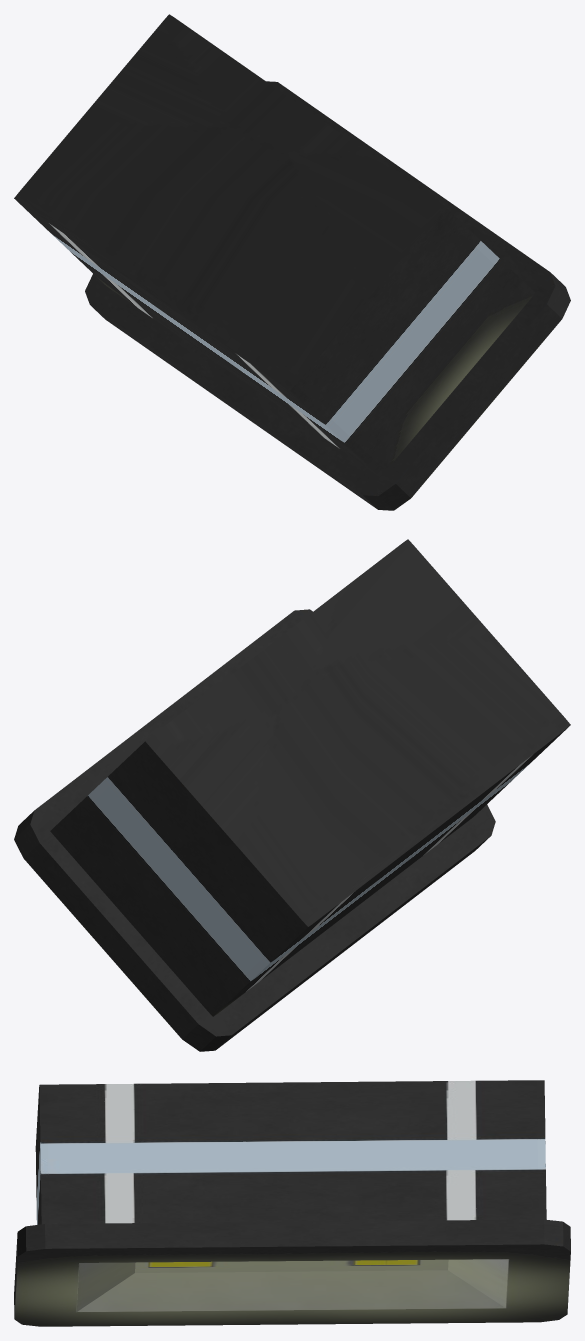
Rendered from light.obj.
3 views of the same model, one above another, from view 1: azimuth 30°, elevation 25°; view 2: azimuth 150°, elevation 25°; view 3: azimuth 270°, elevation 25° (orthographic). The views are drawn at different scales.
Parts seen in each view (by area): view 1: Light; view 2: Light; view 3: Light.
Boxes of the visible parts, x1,y1,x2,y2 form: Light: (14, 14, 570, 510); Light: (14, 539, 570, 1051); Light: (14, 1080, 570, 1326).
Size of the model in its own units: 0.4008 by 0.3792 by 0.7015.
